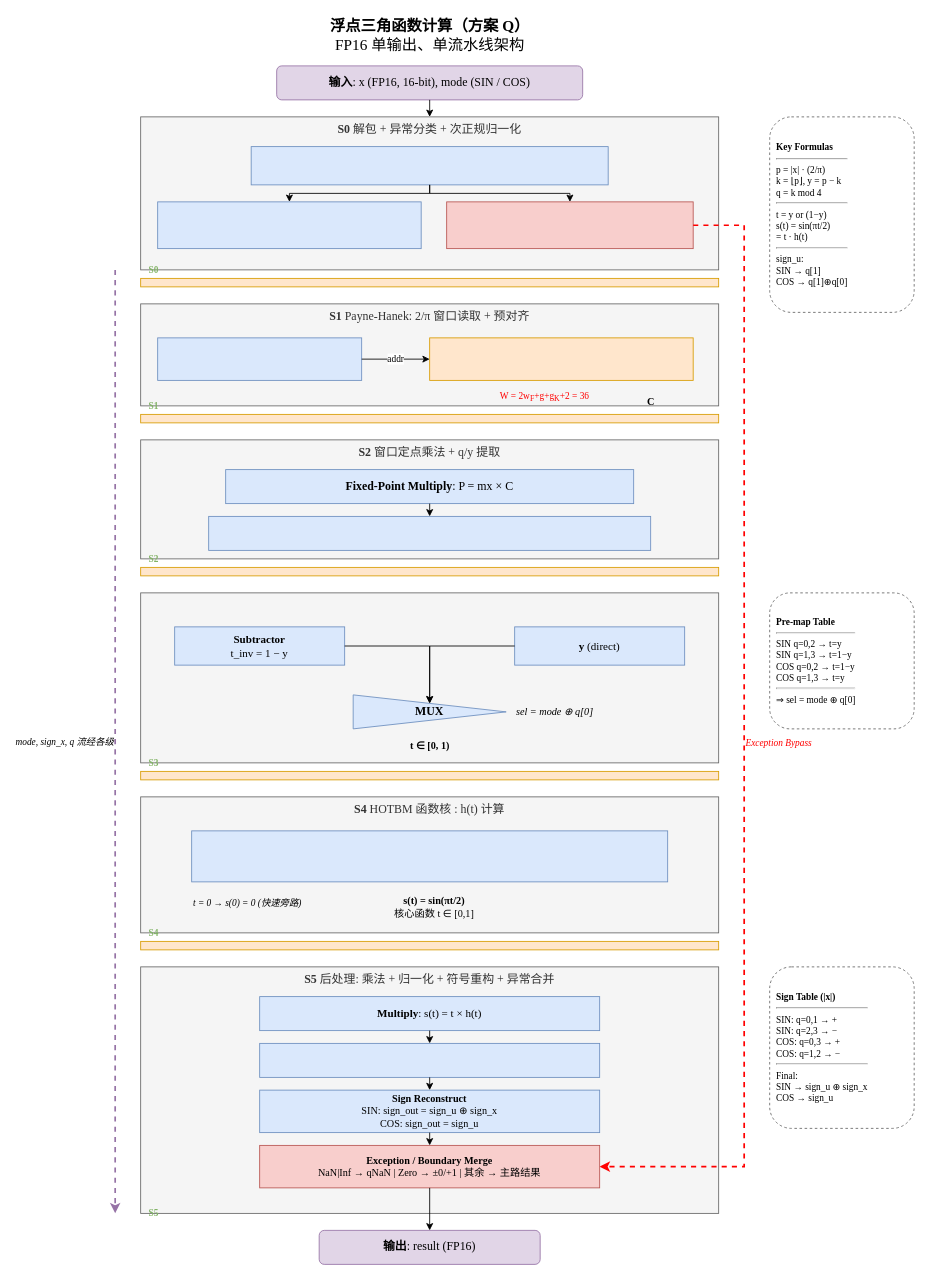
The diagram is 929 pixels wide and 1279 high, and some of its shapes have lost their labels. The shapes that lost their labels are listed below. From the top down, each one's box as (x1, y1, x2, y2) in pixels, then its label:
(250, 146, 608, 185): Input Unpack sign_x, exp_x[ 4:0 ], frac_x[ 9:0 ]
(157, 201, 421, 249): Subnormal Normalize LZC + Left Shift mx[ 10:0 ] (1.F), ex (signed)
(446, 201, 693, 249): Exception Classify is_zero, is_inf, is_nan, is_sub
(157, 337, 362, 380): Window Offset addr = f(ex)
(429, 337, 693, 380): 2/π Constant ROM Window W = 36 bits
(208, 516, 651, 550): Extract : q = k mod 4 [ 1:0 ], y ∈ [0,1) [ 23:0 ]
(140, 592, 719, 763): S3 Pre-map: 生成核输入 t
(191, 830, 668, 882): HOTBM / Segmented Polynomial h(t) = sin(πt/2) / t h(t) 在 (0,1] 上光滑有界，适合定点近似
(259, 1043, 600, 1077): Normalize + Faithful Round → FP16
